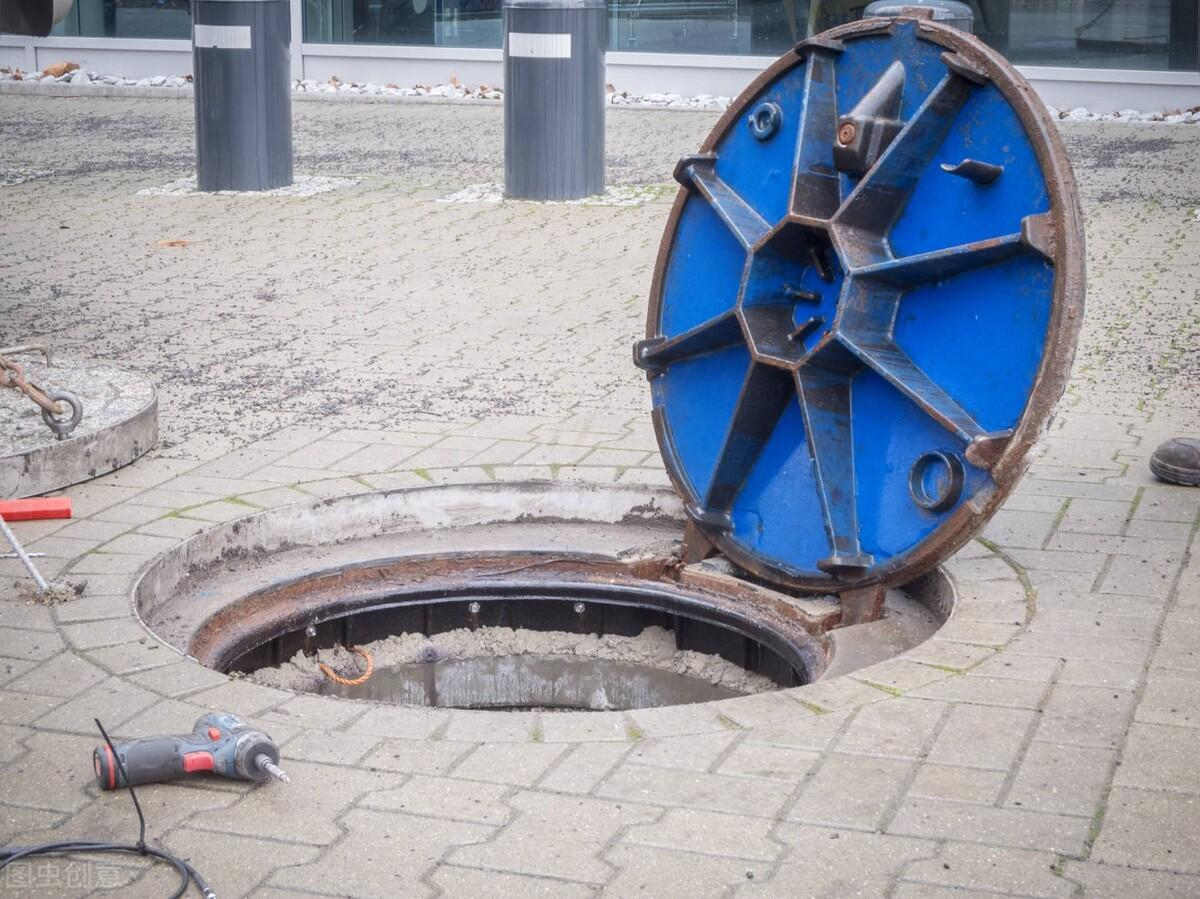wellcover: (150, 0, 1094, 756)
